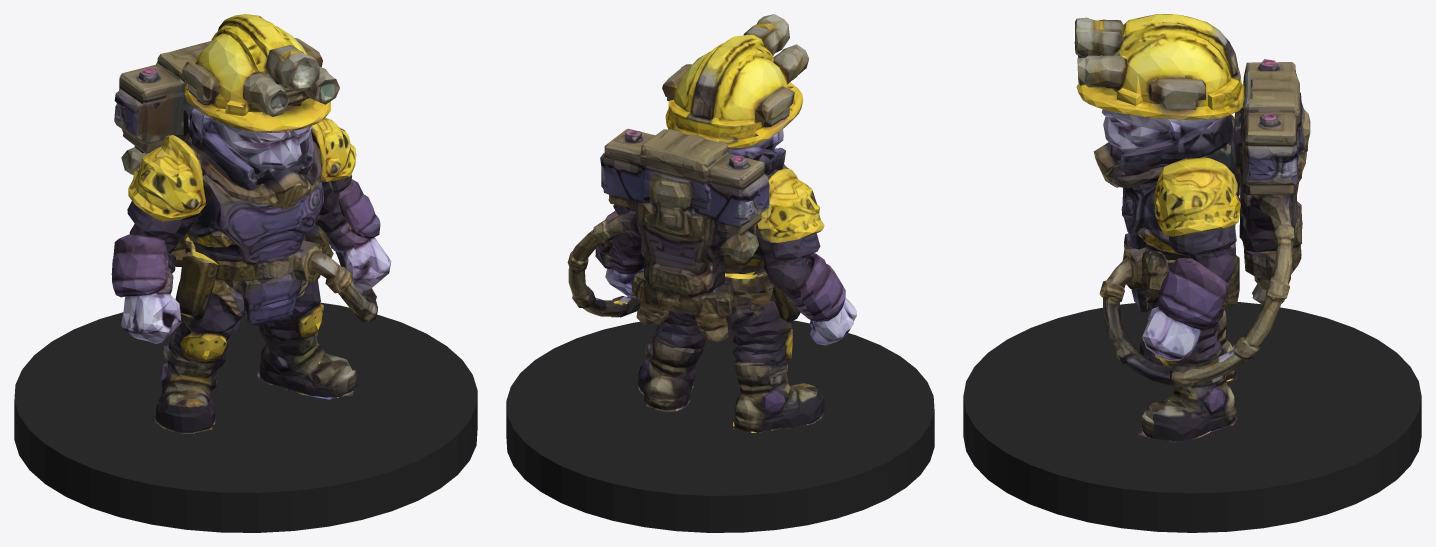
File: wb-neophyte-heavy-gunner.glb
The picture shows the model from 3 angles, left to right: view 1: azimuth 30°, elevation 25°; view 2: azimuth 150°, elevation 25°; view 3: azimuth 270°, elevation 25°; orthographic projection. The views are drawn at different scales.
Visible parts, largest first — view 1: figure, base; view 2: figure, base; view 3: base, figure.
Boxes of the visible parts, <box> form: figure: <box>111,14,391,434</box>; base: <box>14,302,477,532</box>; figure: <box>567,14,856,432</box>; base: <box>506,320,934,532</box>; base: <box>963,302,1421,532</box>; figure: <box>1074,14,1310,442</box>.
Bounding box in the file's own units: 1.26 × 1.27 × 1.26.
2 materials, 1 textured.
